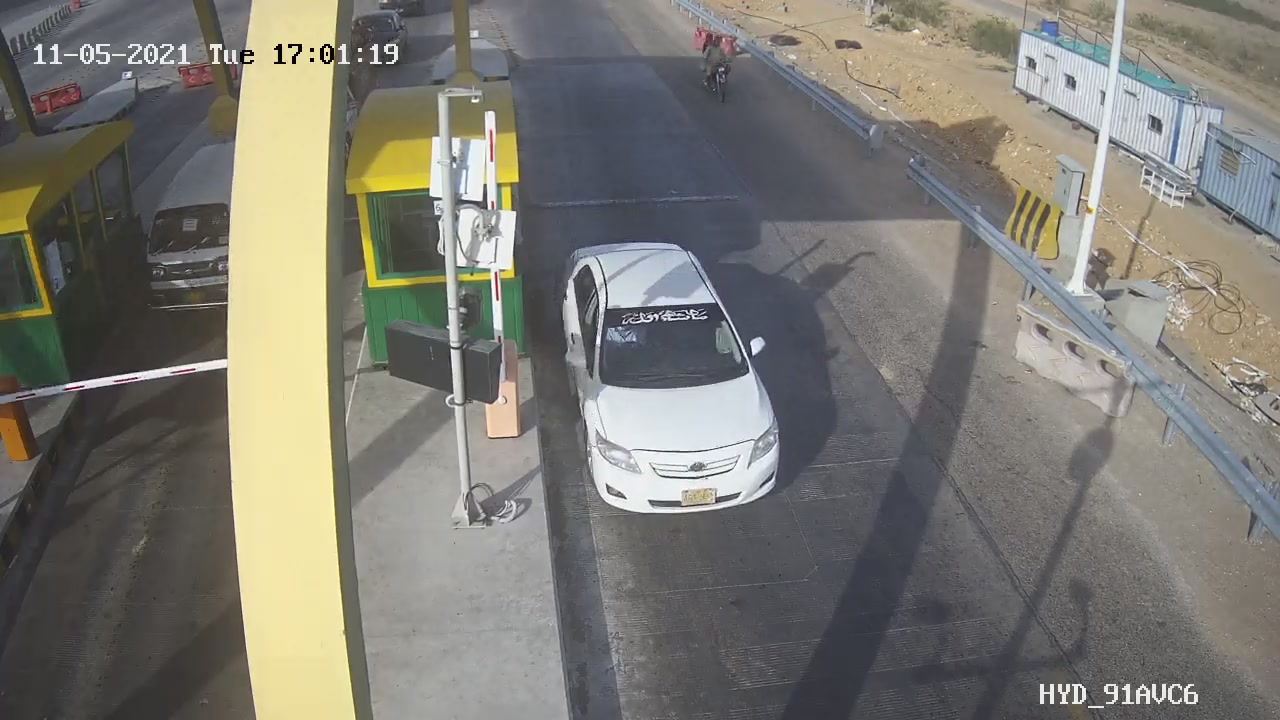F1: (534, 222, 803, 539)
